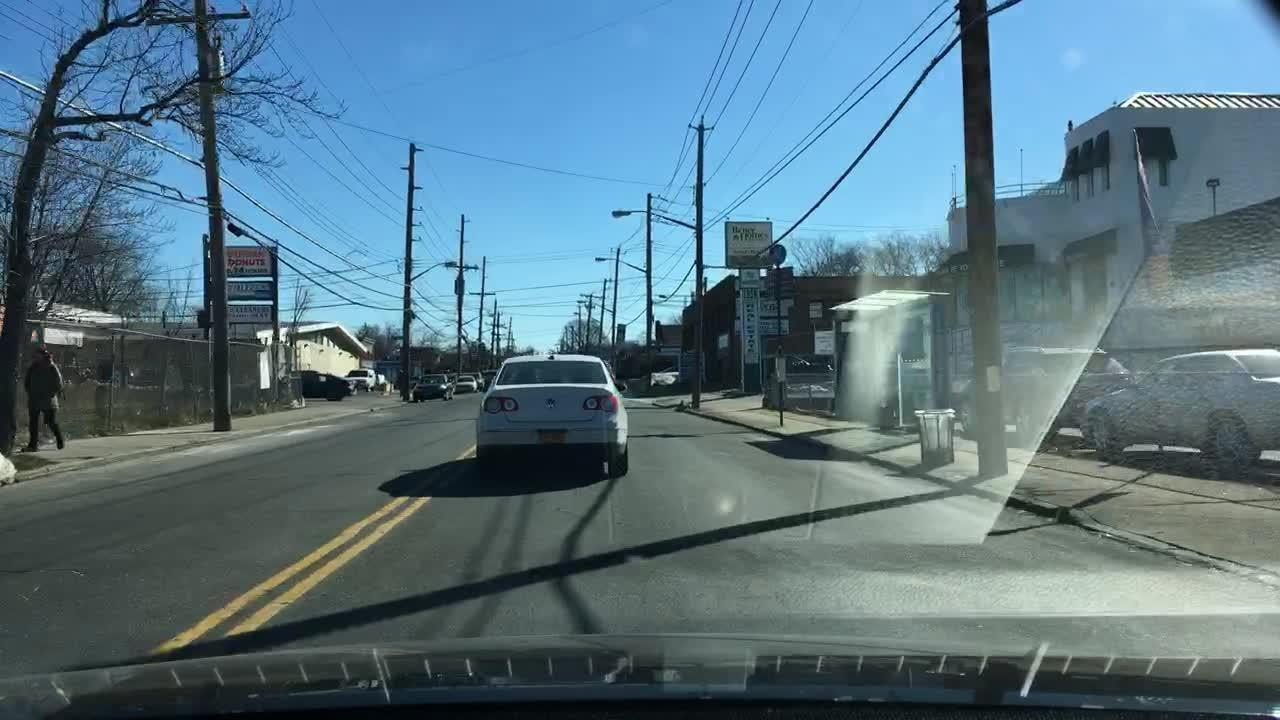Volkswagen: (542, 397, 558, 410)
